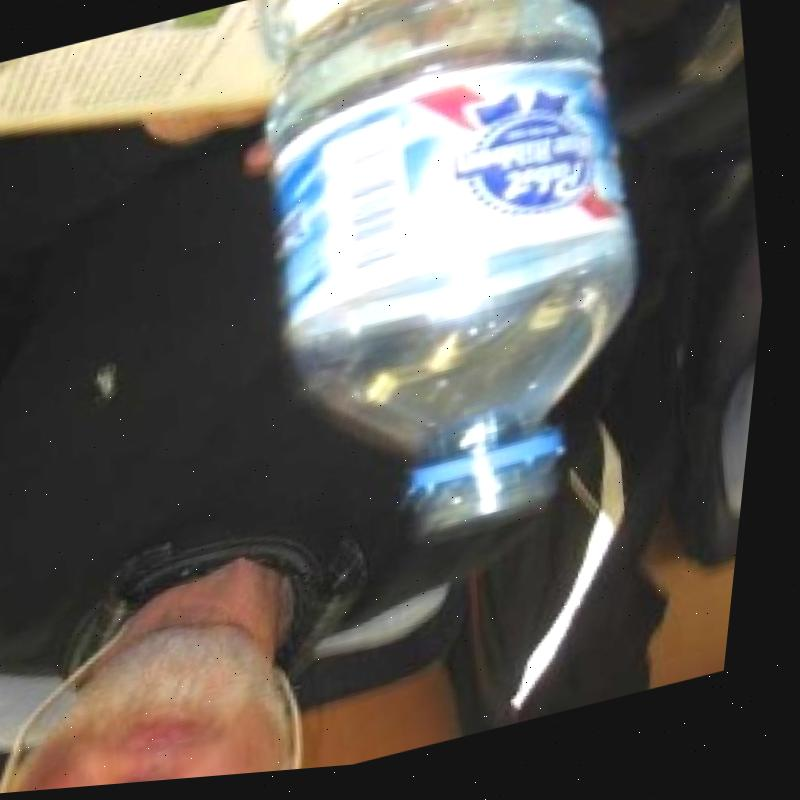botella: (203, 0, 720, 592)
